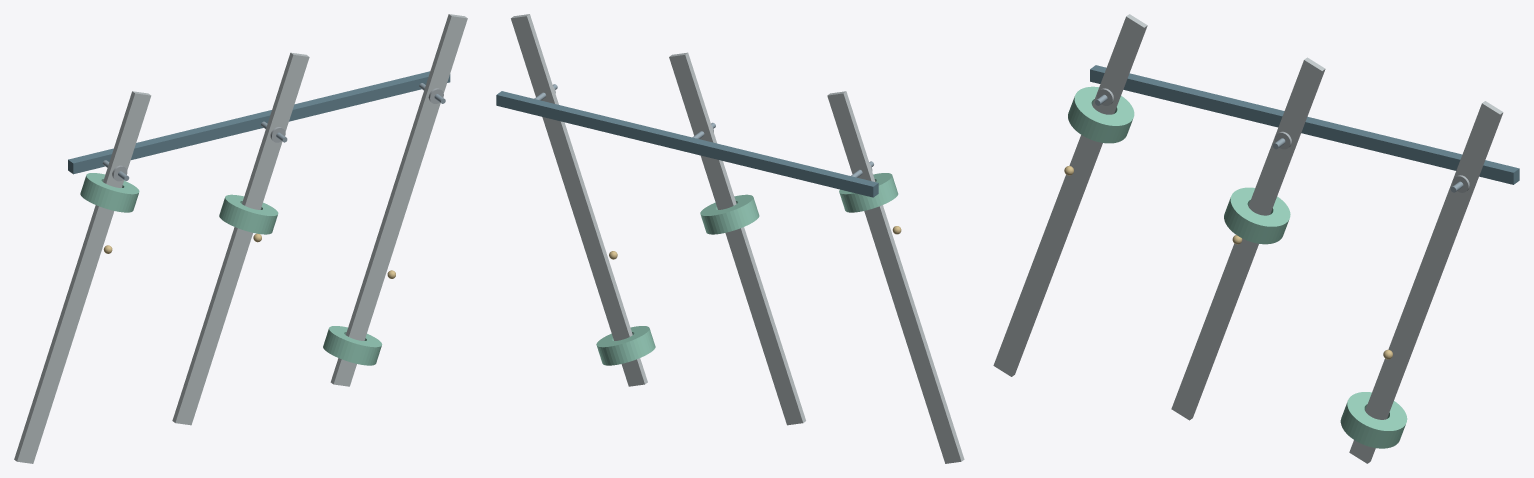
Rendered from collar-pendulum.glb.
3 renders of one model, left to right at view 1: azimuth 30°, elevation 25°; view 2: azimuth 150°, elevation 25°; view 3: azimuth 330°, elevation 25°, orthographic. The views are drawn at different scales.
Parts seen in each view (by area): view 1: Rod_Near, Rod_Best, Rod_Far, FixedSupport, Collar_Best, Collar_Far, Collar_Near; view 2: Rod_Near, Rod_Best, Rod_Far, FixedSupport, Collar_Far, Collar_Best, Collar_Near; view 3: Rod_Best, Rod_Near, Rod_Far, FixedSupport, Collar_Near, Collar_Best, Collar_Far.
Boxes of the visible parts, left/top/right/bottom form: Rod_Near: left=14, top=91, right=151, bottom=463; Rod_Best: left=172, top=52, right=309, bottom=425; Rod_Far: left=330, top=14, right=467, bottom=386; FixedSupport: left=68, top=71, right=450, bottom=174; Collar_Best: left=219, top=194, right=278, bottom=234; Collar_Far: left=323, top=326, right=382, bottom=365; Collar_Near: left=80, top=173, right=139, bottom=212; Rod_Near: left=827, top=91, right=964, bottom=463; Rod_Best: left=669, top=52, right=805, bottom=425; Rod_Far: left=511, top=14, right=647, bottom=386; FixedSupport: left=496, top=91, right=878, bottom=197; Collar_Far: left=596, top=326, right=655, bottom=365; Collar_Best: left=700, top=194, right=759, bottom=234; Collar_Near: left=839, top=173, right=898, bottom=212; Rod_Best: left=1171, top=57, right=1325, bottom=420; Rod_Near: left=993, top=14, right=1147, bottom=376; Rod_Far: left=1349, top=101, right=1503, bottom=463; FixedSupport: left=1090, top=65, right=1519, bottom=184; Collar_Near: left=1068, top=86, right=1134, bottom=143; Collar_Best: left=1224, top=187, right=1290, bottom=244; Collar_Far: left=1340, top=392, right=1407, bottom=448.
Bounding box in the file's own units: 0.7834 × 0.5741 × 0.1025.
